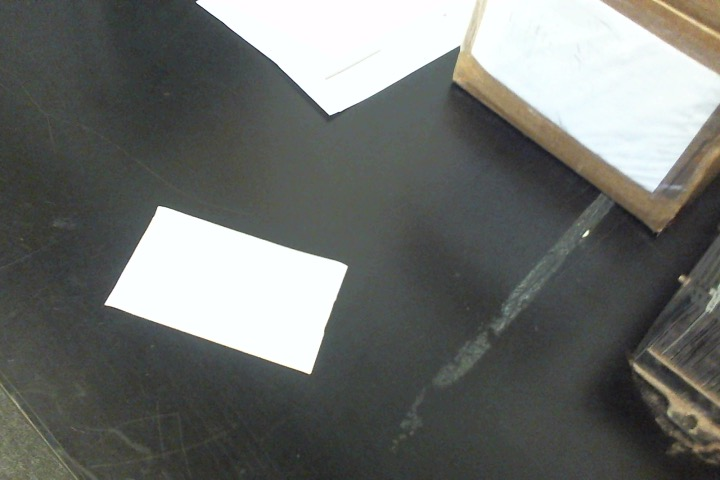Tape: (101, 206, 349, 375)
